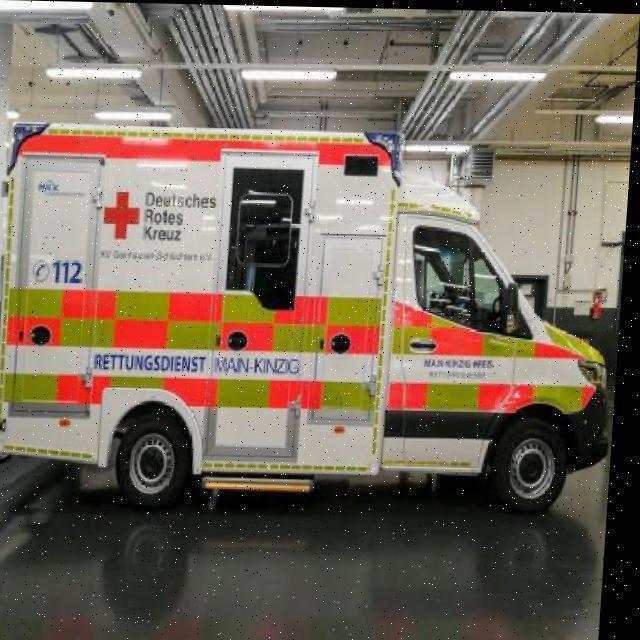Ambulance: (0, 118, 632, 520), (0, 386, 618, 640)
